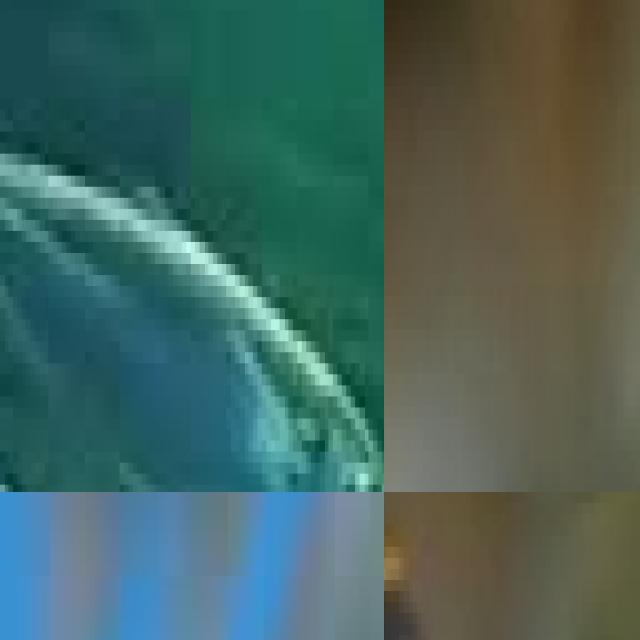fish: (0, 0, 384, 492), (384, 492, 640, 640)
